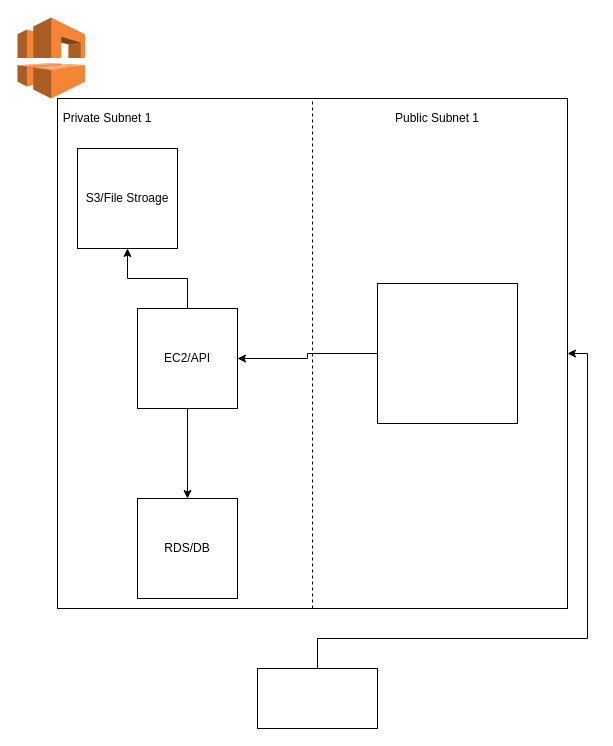
Image size: 613x746. Some labels were removed from this diagram. The centre of each missing label's shape, as x and y in pixels:
"All Traffic" belongs at point (317, 698).
"S3/FrontEnd" belongs at point (447, 353).
